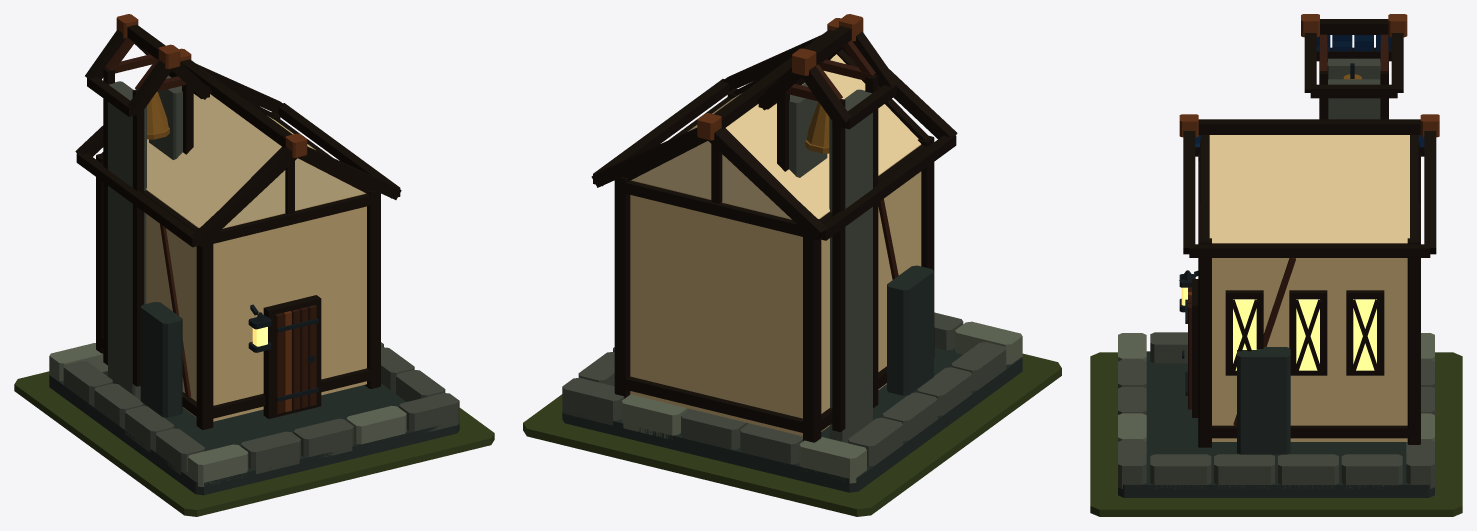
The model's file is chapel_t5.glb.
3 views of the same model, side by side, from view 1: azimuth 30°, elevation 25°; view 2: azimuth 150°, elevation 25°; view 3: azimuth 270°, elevation 25° (orthographic). The views are drawn at different scales.
Visible parts, largest first — view 1: MMR | chapel | T05 Architecture.001, MMR | chapel | Tier 05 Ground.001; view 2: MMR | chapel | T05 Architecture.001, MMR | chapel | Tier 05 Ground.001; view 3: MMR | chapel | T05 Architecture.001, MMR | chapel | Tier 05 Ground.001.
Boxes of the visible parts, x1,y1,x2,y2 form: MMR | chapel | T05 Architecture.001: (49,14,459,495); MMR | chapel | Tier 05 Ground.001: (14,371,494,516); MMR | chapel | T05 Architecture.001: (562,14,1022,492); MMR | chapel | Tier 05 Ground.001: (523,353,1061,516); MMR | chapel | T05 Architecture.001: (1118,14,1439,497); MMR | chapel | Tier 05 Ground.001: (1090,352,1462,516).
Size of the model in its own units: 2.35 by 2.68 by 2.35.
2 materials, 1 textured.
